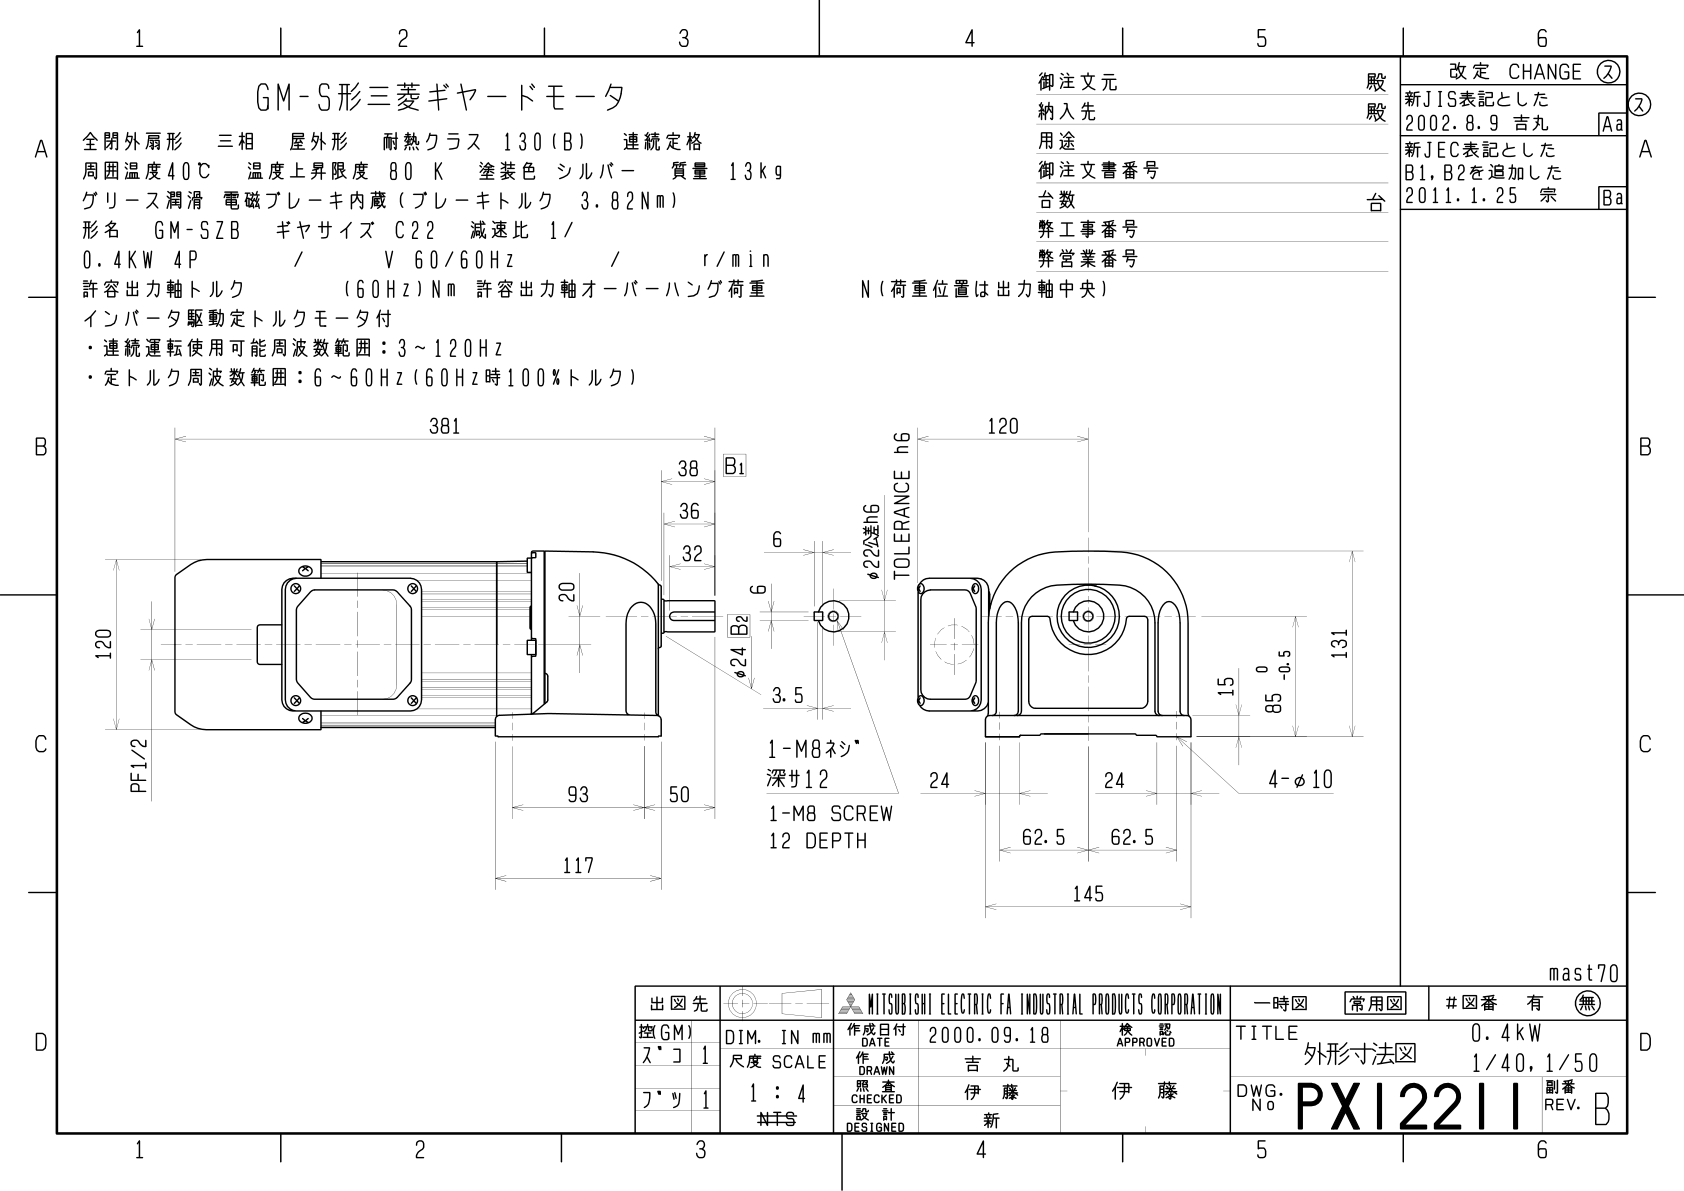GM_S_インバタ屋外＿三相_脚: (75, 396, 1386, 941)
